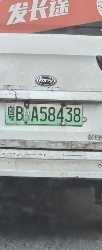License plate: (5, 103, 84, 125)
